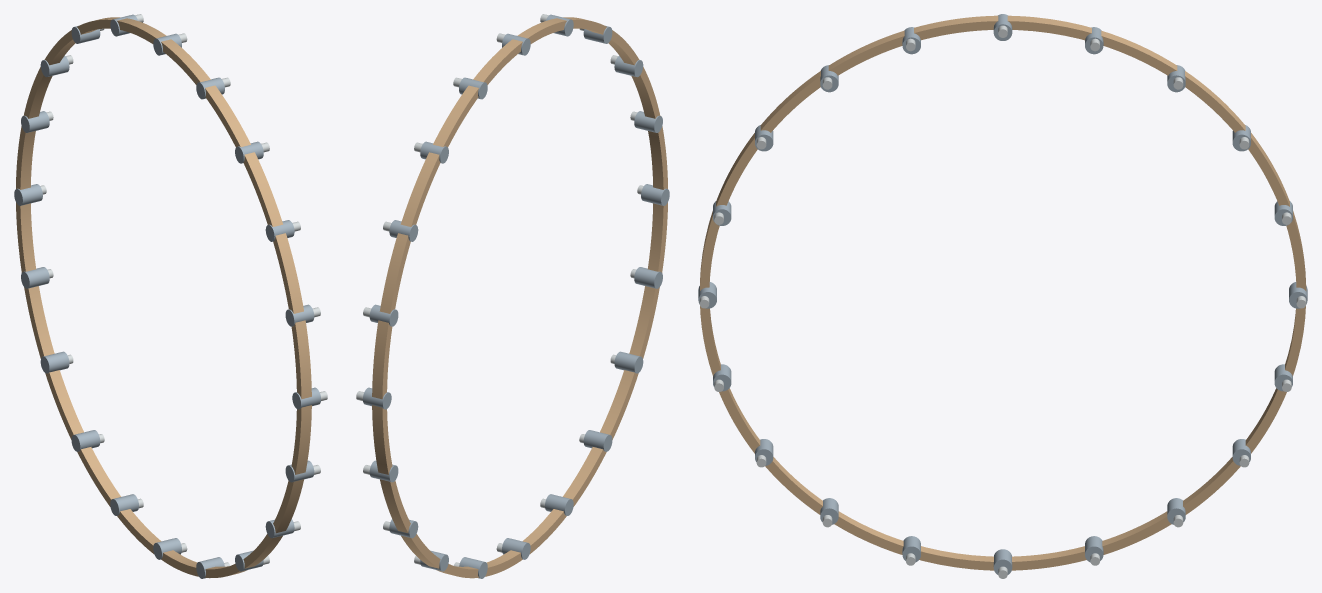
Rendered from nozzle-hinge-service.glb.
3 renders of one model, left to right at view 1: azimuth 30°, elevation 25°; view 2: azimuth 150°, elevation 25°; view 3: azimuth 270°, elevation 25°, orthographic. The views are drawn at different scales.
Parts seen in each view (by area): view 1: nozzle-hinge-service - bronze, nozzle-hinge-service - steel, nozzle-hinge-service - fastener; view 2: nozzle-hinge-service - bronze, nozzle-hinge-service - steel, nozzle-hinge-service - fastener; view 3: nozzle-hinge-service - bronze, nozzle-hinge-service - steel, nozzle-hinge-service - fastener.
Part boxes in pixels (x1,y1,x2,y2): nozzle-hinge-service - bronze: (16, 17, 311, 578); nozzle-hinge-service - steel: (14, 14, 320, 578); nozzle-hinge-service - fastener: (40, 14, 327, 566); nozzle-hinge-service - bronze: (372, 17, 667, 578); nozzle-hinge-service - steel: (363, 14, 669, 578); nozzle-hinge-service - fastener: (356, 14, 643, 566); nozzle-hinge-service - bronze: (700, 15, 1306, 570); nozzle-hinge-service - steel: (698, 14, 1307, 574); nozzle-hinge-service - fastener: (699, 25, 1306, 578).
Size of the model in its own units: 0.105 by 1.91 by 1.91.
